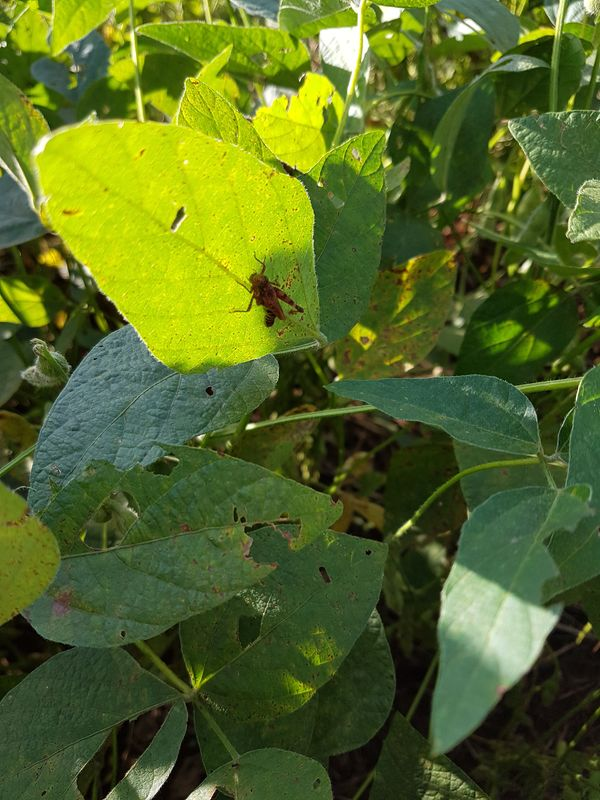Rhammatocerus_schistocercoides: (221, 247, 316, 338)
